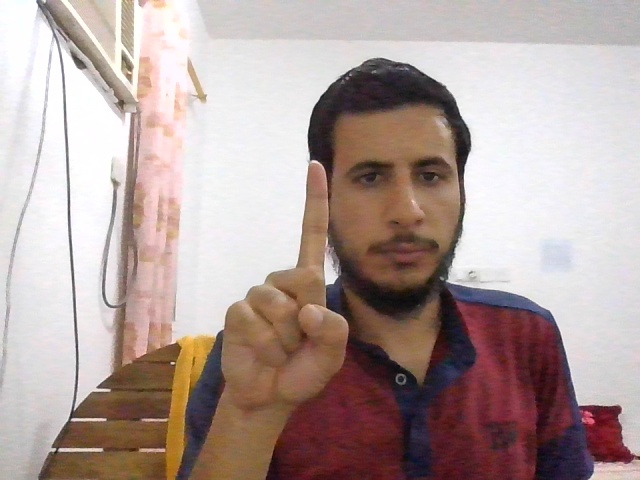One: (223, 161, 347, 409)
